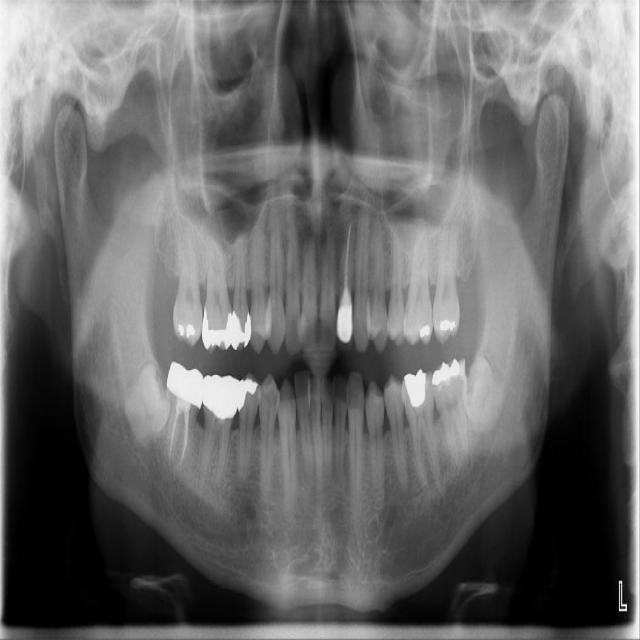52: (161, 361, 208, 416), (196, 373, 241, 427), (430, 357, 470, 415), (400, 369, 438, 426), (171, 289, 206, 347), (200, 294, 234, 353), (231, 372, 265, 425), (403, 293, 434, 346), (433, 287, 460, 344), (230, 300, 251, 351), (336, 289, 353, 348)
73: (152, 401, 201, 469), (196, 422, 232, 491), (339, 216, 356, 299), (606, 552, 610, 562)
BioHorizons Implant: (431, 221, 460, 344)
Biomet 3i Implant: (451, 352, 513, 434)
Blue Sky Bio Implant: (430, 358, 474, 472)
Caries: (173, 208, 203, 347)
Implant: (162, 361, 205, 468)
Keystone Dental Implant: (109, 360, 184, 447)
